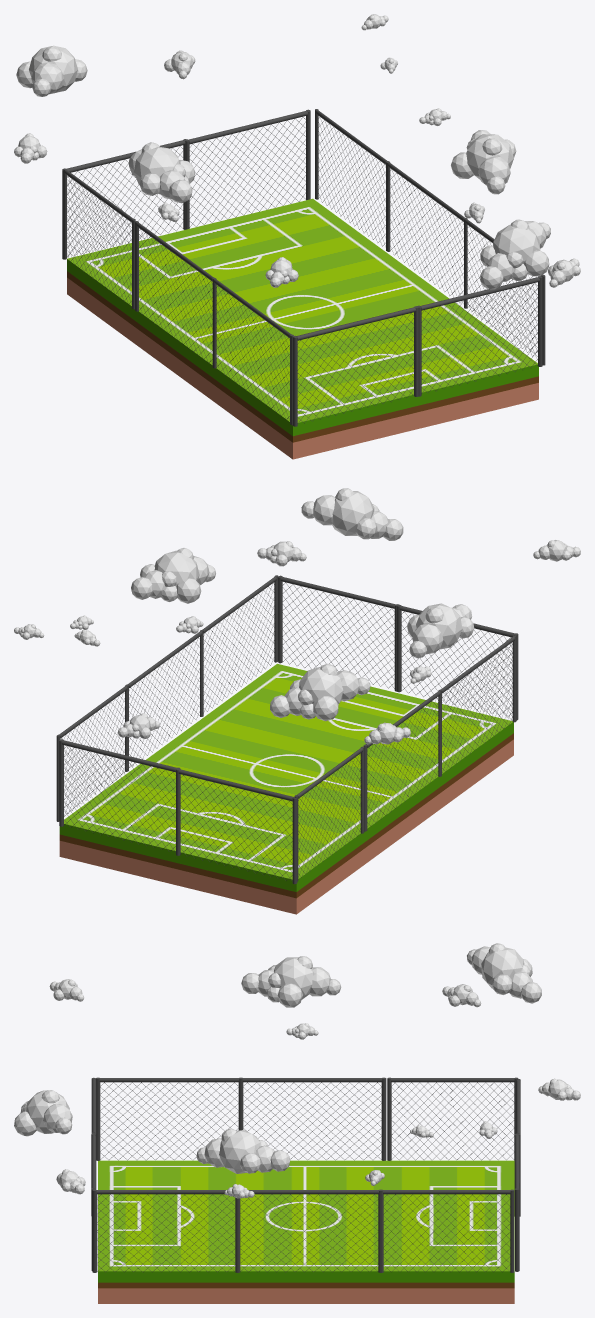
Rendered from field2.glb.
3 views of the same model, one above another, from view 1: azimuth 30°, elevation 25°; view 2: azimuth 150°, elevation 25°; view 3: azimuth 270°, elevation 25° (orthographic). The views are drawn at different scales.
Parts seen in each view (by area): view 1: Cube, Null_2_1__0.004, Null_2_1__0.003, Null_2_1__0.002, Icosphere.007_13.001, Null_0_1__0.001, Null_2_1__0.001, Null_1_1, Null_1_1__0.001, Null_2_1, Icosphere.001_7, Icosphere.001_7.001 (+7 smaller); view 2: Cube, Null_2_1__0.005, Null_2_1__0.003, Null_2_1__0.002, Icosphere.007_13, Icosphere.007_13.001, Icosphere.001_7.001, Null_0_1__0.001, Null_0_1, Null_2_1__0.001, Null_1_1__0.001, Null_2_1__0.004 (+7 smaller); view 3: Cube, Null_0_1, Null_1_1__0.001, Null_1_1, Null_2_1, Null_0_1__0.001, Null_2_1__0.001, Icosphere.001_7, Icosphere.001_7.001, Icosphere.007_13, Icosphere.007_13.001, Null_2_1__0.002 (+5 smaller).
Part boxes in pixels (bbox=[...]): Cube: bbox=[67, 198, 538, 459]; Null_2_1__0.004: bbox=[293, 306, 418, 426]; Null_2_1__0.003: bbox=[417, 276, 542, 396]; Null_2_1__0.002: bbox=[185, 109, 310, 229]; Icosphere.007_13.001: bbox=[480, 219, 550, 289]; Null_0_1__0.001: bbox=[212, 277, 293, 425]; Null_2_1__0.001: bbox=[63, 168, 135, 309]; Null_1_1: bbox=[386, 161, 467, 307]; Null_1_1__0.001: bbox=[135, 221, 214, 367]; Null_2_1: bbox=[315, 109, 388, 250]; Icosphere.001_7: bbox=[128, 142, 195, 203]; Icosphere.001_7.001: bbox=[451, 130, 516, 194]; Cube: bbox=[59, 663, 513, 914]; Null_2_1__0.005: bbox=[176, 769, 297, 884]; Null_2_1__0.003: bbox=[278, 575, 398, 691]; Null_2_1__0.002: bbox=[59, 739, 180, 852]; Icosphere.007_13: bbox=[270, 663, 370, 721]; Icosphere.007_13.001: bbox=[301, 488, 403, 540]; Icosphere.001_7.001: bbox=[131, 548, 215, 603]; Null_0_1__0.001: bbox=[438, 635, 516, 775]; Null_0_1: bbox=[200, 575, 278, 715]; Null_2_1__0.001: bbox=[294, 746, 364, 881]; Null_1_1__0.001: bbox=[363, 690, 441, 831]; Null_2_1__0.004: bbox=[397, 604, 518, 720]; Cube: bbox=[98, 1160, 514, 1303]; Null_0_1: bbox=[92, 1189, 237, 1272]; Null_1_1__0.001: bbox=[239, 1077, 386, 1160]; Null_1_1: bbox=[237, 1189, 382, 1272]; Null_2_1: bbox=[380, 1189, 514, 1272]; Null_0_1__0.001: bbox=[96, 1077, 242, 1160]; Null_2_1__0.001: bbox=[387, 1077, 518, 1160]; Icosphere.001_7: bbox=[241, 956, 341, 1007]; Icosphere.001_7.001: bbox=[196, 1128, 290, 1173]; Icosphere.007_13: bbox=[467, 943, 541, 1003]; Icosphere.007_13.001: bbox=[14, 1090, 72, 1136]; Null_2_1__0.002: bbox=[514, 1133, 519, 1271].
Size of the model in its own units: 421 by 268 by 577.
Materials: 10 (2 with a texture image).
